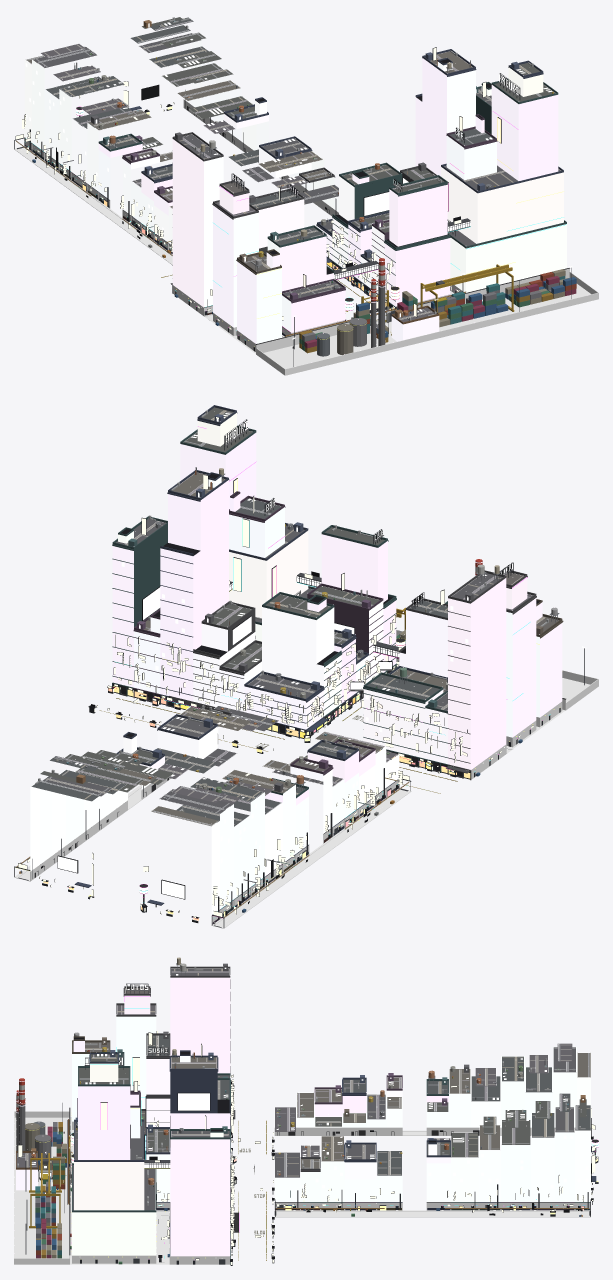
File: world-phone-south.glb
3 renders of one model, top to bottom at view 1: azimuth 30°, elevation 25°; view 2: azimuth 150°, elevation 25°; view 3: azimuth 270°, elevation 25°, orthographic. The views are drawn at different scales.
Parts seen in each view (by area): view 1: avenue_s_facade, avenue_s_trim, avenue_s_castconcrete, avenue_s_concrete, avenue_s_asphalt, avenue_s_steel, avenue_s_sign, avenue_s_glow, avenue_s_board_frame, avenue_s_plaster, avenue_s_sidewalk, avenue_s_metal (+2 smaller); view 2: avenue_s_facade, avenue_s_trim, avenue_s_castconcrete, avenue_s_sign, avenue_s_board_frame, avenue_s_concrete, avenue_s_glow, avenue_s_steel, avenue_s_asphalt, avenue_s_billboard, avenue_s_plaster, avenue_s_sidewalk (+4 smaller); view 3: avenue_s_facade, avenue_s_castconcrete, avenue_s_trim, avenue_s_asphalt, avenue_s_concrete, avenue_s_glow, avenue_s_sidewalk, avenue_s_board_frame, avenue_s_sign, avenue_s_steel, avenue_s_plaster, avenue_s_metal (+2 smaller).
Part boxes in pixels (x1=…): avenue_s_facade: x1=24, y1=25, x2=566, y2=343; avenue_s_trim: x1=16, y1=18, x2=576, y2=356; avenue_s_castconcrete: x1=26, y1=17, x2=560, y2=322; avenue_s_concrete: x1=24, y1=99, x2=598, y2=375; avenue_s_asphalt: x1=18, y1=147, x2=590, y2=368; avenue_s_steel: x1=25, y1=17, x2=553, y2=348; avenue_s_sign: x1=16, y1=48, x2=500, y2=329; avenue_s_glow: x1=25, y1=14, x2=588, y2=366; avenue_s_board_frame: x1=15, y1=47, x2=501, y2=320; avenue_s_plaster: x1=91, y1=20, x2=519, y2=317; avenue_s_sidewalk: x1=14, y1=108, x2=453, y2=353; avenue_s_metal: x1=14, y1=73, x2=571, y2=366; avenue_s_facade: x1=30, y1=413, x2=562, y2=915; avenue_s_trim: x1=16, y1=405, x2=565, y2=924; avenue_s_castconcrete: x1=31, y1=407, x2=558, y2=826; avenue_s_sign: x1=18, y1=417, x2=533, y2=917; avenue_s_board_frame: x1=18, y1=474, x2=533, y2=918; avenue_s_concrete: x1=30, y1=629, x2=598, y2=925; avenue_s_glow: x1=39, y1=404, x2=586, y2=890; avenue_s_steel: x1=19, y1=410, x2=559, y2=924; avenue_s_asphalt: x1=18, y1=678, x2=589, y2=927; avenue_s_billboard: x1=20, y1=587, x2=405, y2=898; avenue_s_plaster: x1=76, y1=414, x2=543, y2=792; avenue_s_sidewalk: x1=14, y1=709, x2=565, y2=928; avenue_s_facade: x1=16, y1=977, x2=590, y2=1256; avenue_s_castconcrete: x1=16, y1=969, x2=590, y2=1210; avenue_s_trim: x1=16, y1=966, x2=598, y2=1264; avenue_s_asphalt: x1=14, y1=1117, x2=589, y2=1264; avenue_s_concrete: x1=14, y1=1111, x2=590, y2=1264; avenue_s_glow: x1=14, y1=957, x2=595, y2=1258; avenue_s_sidewalk: x1=70, y1=1117, x2=590, y2=1264; avenue_s_board_frame: x1=18, y1=1031, x2=598, y2=1261; avenue_s_sign: x1=18, y1=1033, x2=598, y2=1264; avenue_s_steel: x1=17, y1=963, x2=585, y2=1264; avenue_s_plaster: x1=31, y1=963, x2=585, y2=1182; avenue_s_metal: x1=25, y1=983, x2=590, y2=1254.
Bounding box in the file's own units: 177 × 110 × 292.
